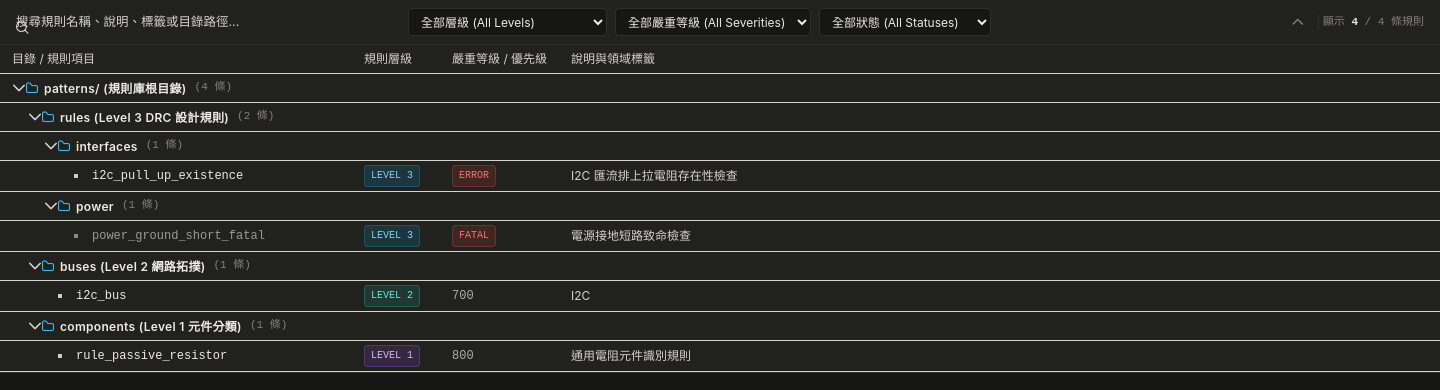
Test: RuleDirectoryTree.vue › 支援關鍵字搜尋過濾節點
Type "power_ground" into the field with placeholder "搜尋規則名稱、說明、標籤或目錄路徑..." at (208, 22), box [16,14,400,30]
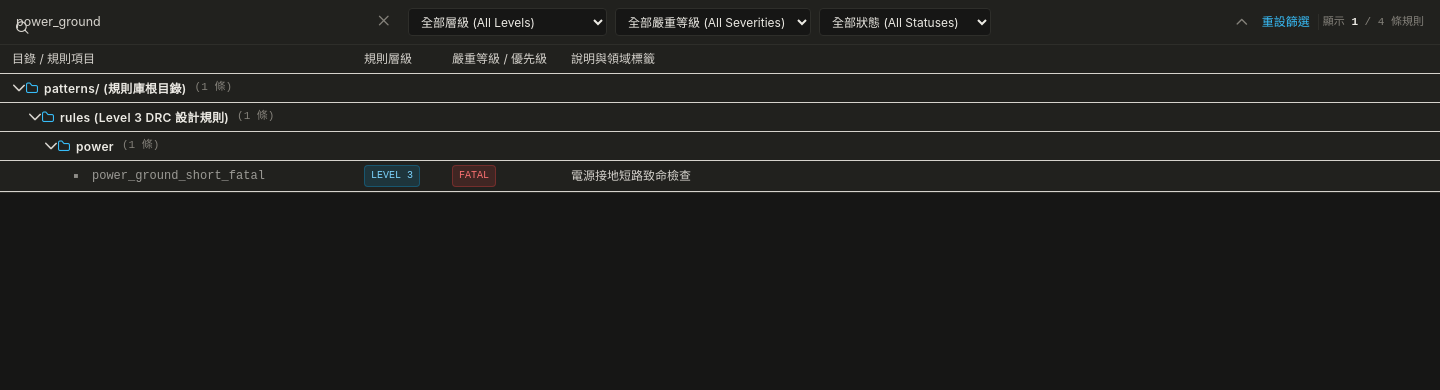
Expected: the text "power_ground_short_fatal" is shown, [92,168,265,184]
Result: the text "i2c_pull_up_existence" is gone
